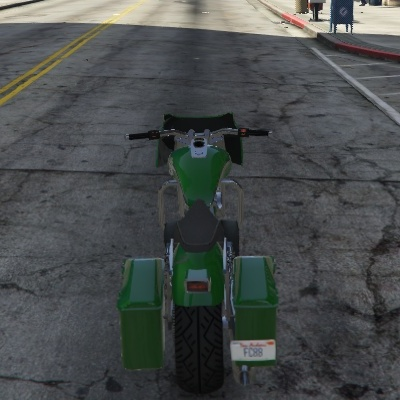off: (183, 266, 215, 298)
